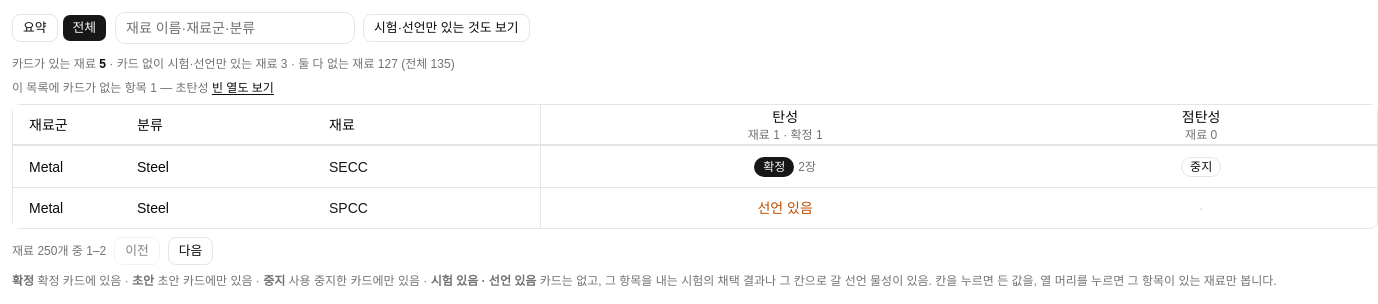
Scenario: 전체 › 빈 항목은 열을 접되 이름을 적는다
Expected: the link "SECC" is shown, [329,158,368,174]
Expected: the text "이 목록에 카드가 없는 항목 1 — 초탄성 빈 열도 보기" is shown, [12,80,274,96]
What coordinates should you click on to do the following:
click the button "빈 열도 보기"
I would click on:
 (243, 88)
Its box is [212,80,274,96].
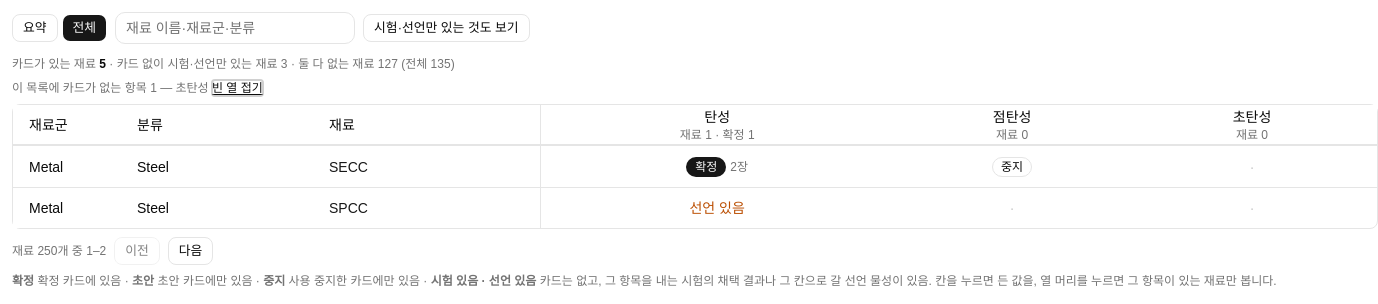
Result: the button with aria-label "초탄성 — 이 항목이 있는 재료만 보기" is shown at [1229,105,1275,145]
